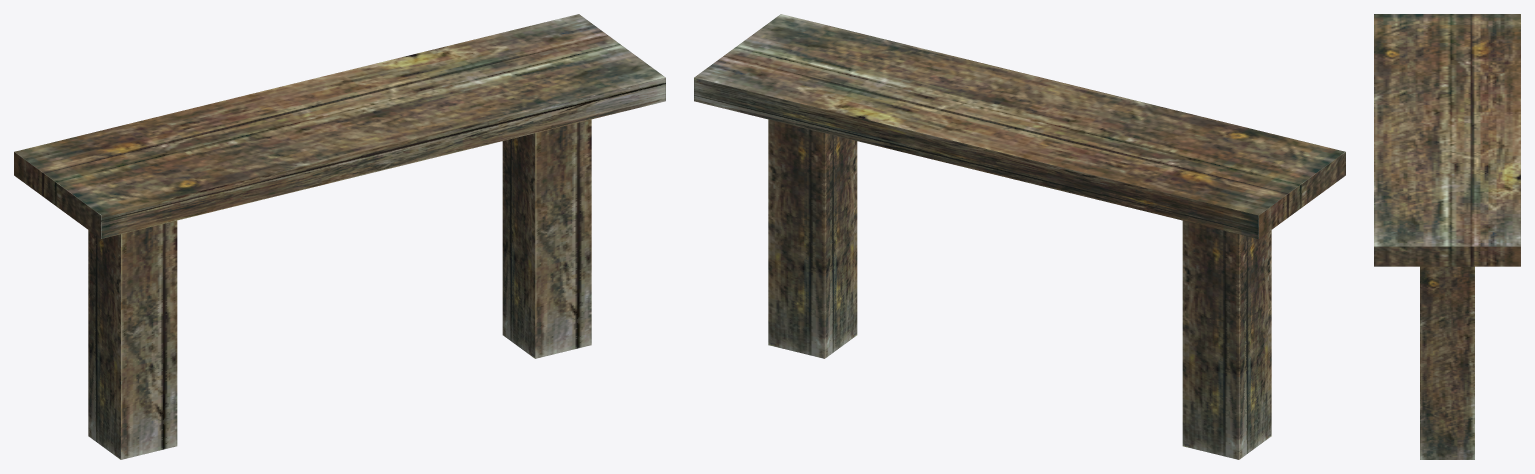
File: skam1.glb
3 views of the same model, side by side, from view 1: azimuth 30°, elevation 25°; view 2: azimuth 150°, elevation 25°; view 3: azimuth 270°, elevation 25° (orthographic). The views are drawn at different scales.
Visible parts, largest first — view 1: skam1-col; view 2: skam1-col; view 3: skam1-col.
Boxes of the visible parts, <box> form: skam1-col: <box>14,14,665,459</box>; skam1-col: <box>694,14,1345,459</box>; skam1-col: <box>1374,14,1520,459</box>.
Bounding box in the file's own units: 1.5 × 0.7 × 0.4.
Materials: 1 (1 with a texture image).
